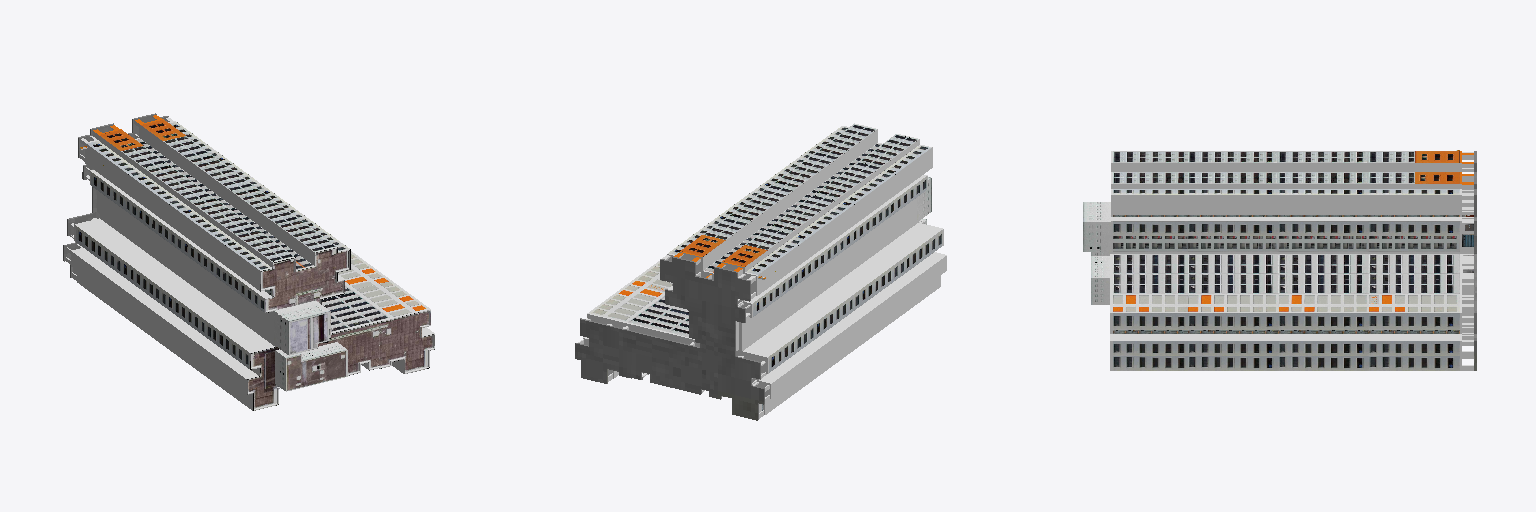
The picture shows the model from 3 angles: view 1: azimuth 30°, elevation 25°; view 2: azimuth 150°, elevation 25°; view 3: azimuth 270°, elevation 25°; orthographic projection.
Visible parts, largest first — view 1: polygon.843; view 2: polygon.843; view 3: polygon.843.
Boxes of the visible parts, x1,y1,x2,y2 form: polygon.843: [63, 113, 434, 410]; polygon.843: [575, 123, 946, 420]; polygon.843: [1083, 150, 1476, 370].
Size of the model in its own units: 48.59 by 35.25 by 87.64.
1 materials, 1 textured.